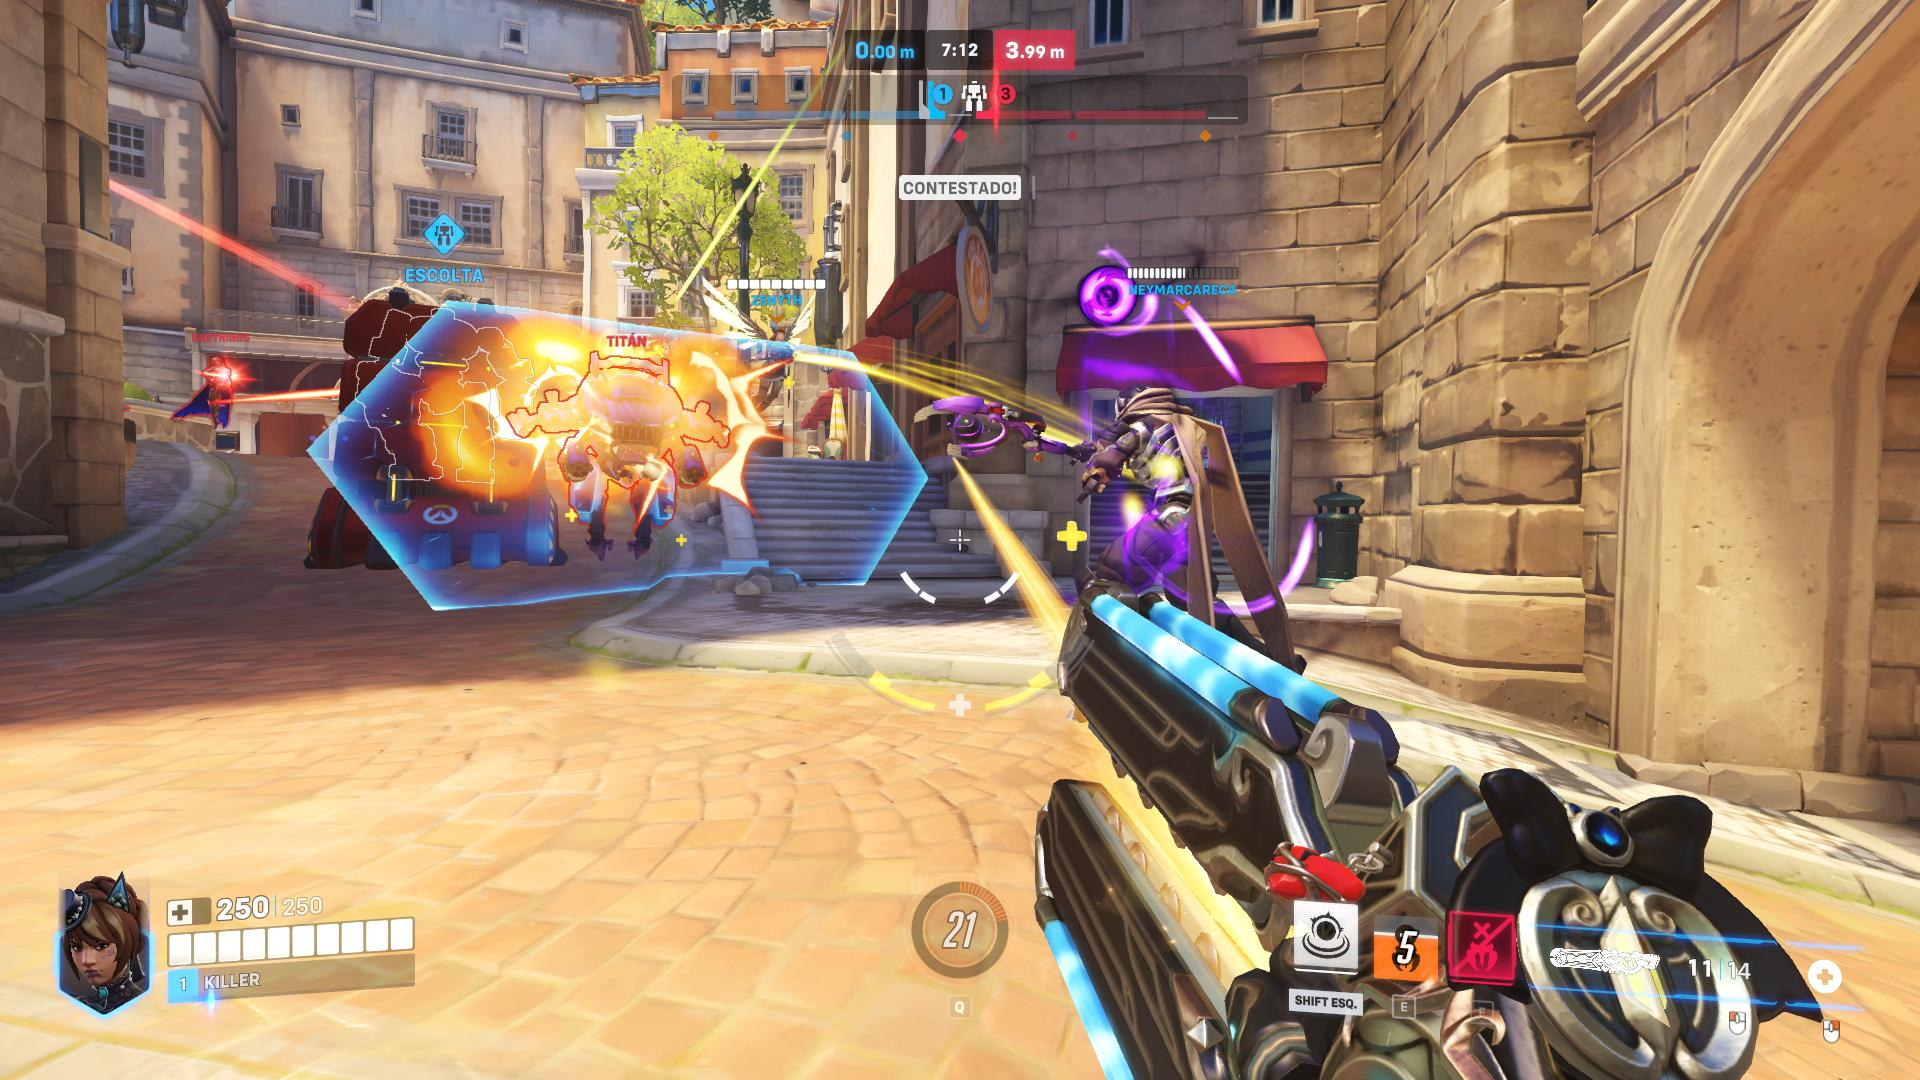enemy: (558, 349, 707, 522), (200, 355, 233, 425)
